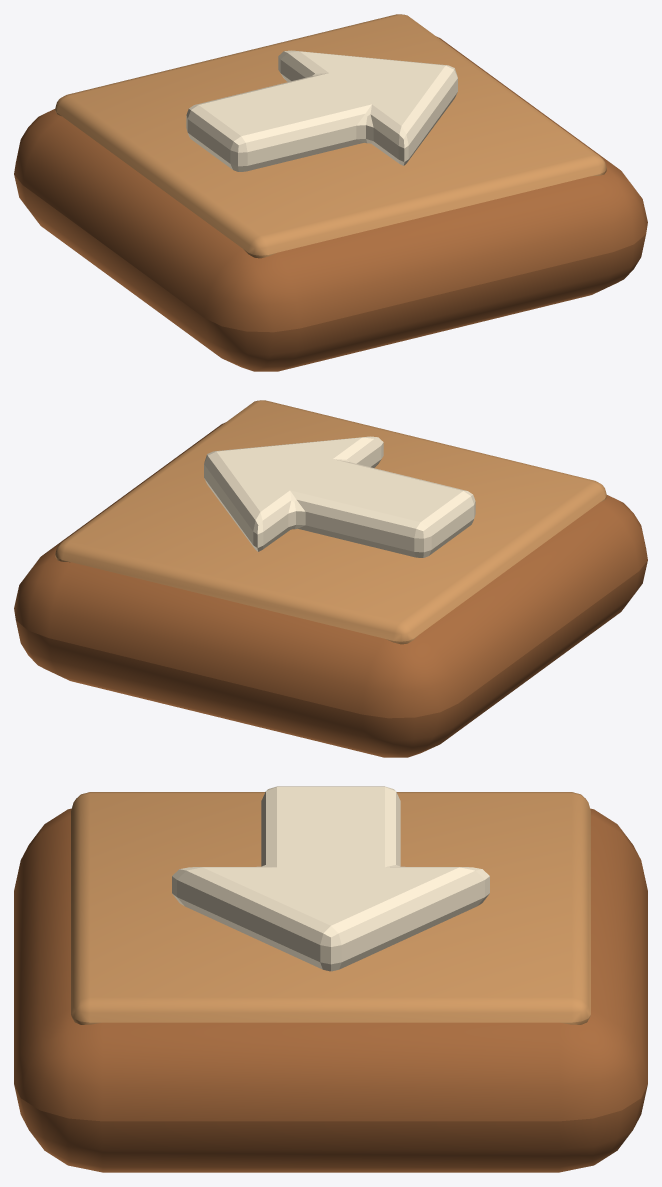
Rendered from BackButton.fbx.
3 renders of one model, top to bottom at view 1: azimuth 30°, elevation 25°; view 2: azimuth 150°, elevation 25°; view 3: azimuth 270°, elevation 25°, orthographic. The views are drawn at different scales.
Visible parts, largest first — view 1: BackButton; view 2: BackButton; view 3: BackButton.
Boxes of the visible parts, x1,y1,x2,y2 form: BackButton: [14, 14, 647, 371]; BackButton: [14, 400, 647, 757]; BackButton: [14, 786, 647, 1172].
Bounding box in the file's own units: 1 × 0.37 × 1.
1 material, 1 textured.
